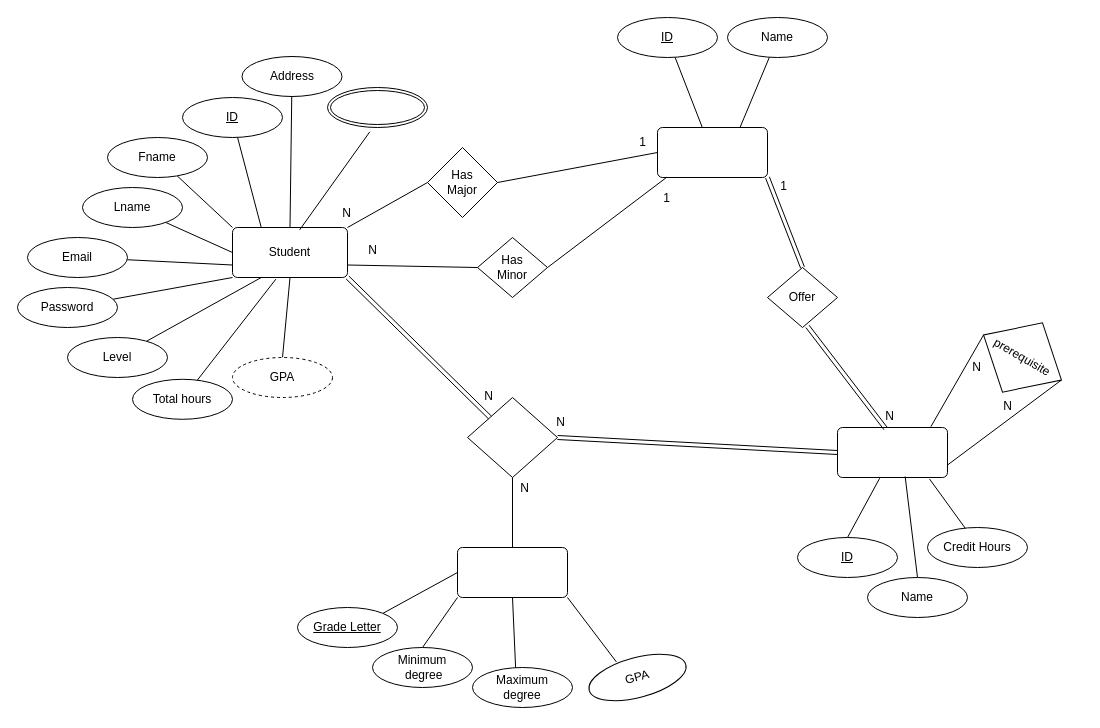
This 1100x728 diagram has some shape labels left out. Each missing label, with the box of its shape:
Course: (836, 426, 948, 478)
Department: (656, 126, 768, 178)
Enroll: (466, 396, 558, 478)
Grade: (456, 546, 568, 598)
Phone: (326, 86, 428, 128)
